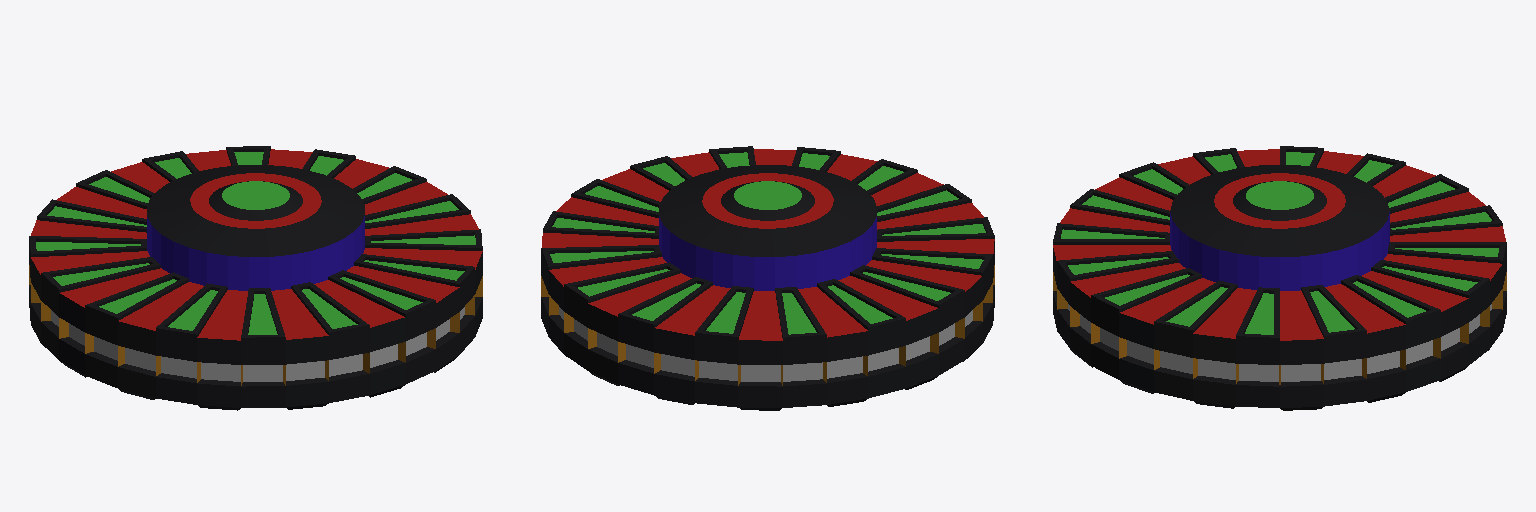
Rendered from SUFO.obj.
The picture shows the model from 3 angles: view 1: azimuth 30°, elevation 25°; view 2: azimuth 150°, elevation 25°; view 3: azimuth 270°, elevation 25°; orthographic projection.
Parts seen in each view (by area): view 1: Circle.010_Circle.003; view 2: Circle.010_Circle.003; view 3: Circle.010_Circle.003.
Boxes of the visible parts, x1,y1,x2,y2 form: Circle.010_Circle.003: [29, 146, 482, 410]; Circle.010_Circle.003: [541, 146, 994, 410]; Circle.010_Circle.003: [1053, 146, 1506, 410].
Size of the model in its own units: 41.42 by 12.15 by 41.42.